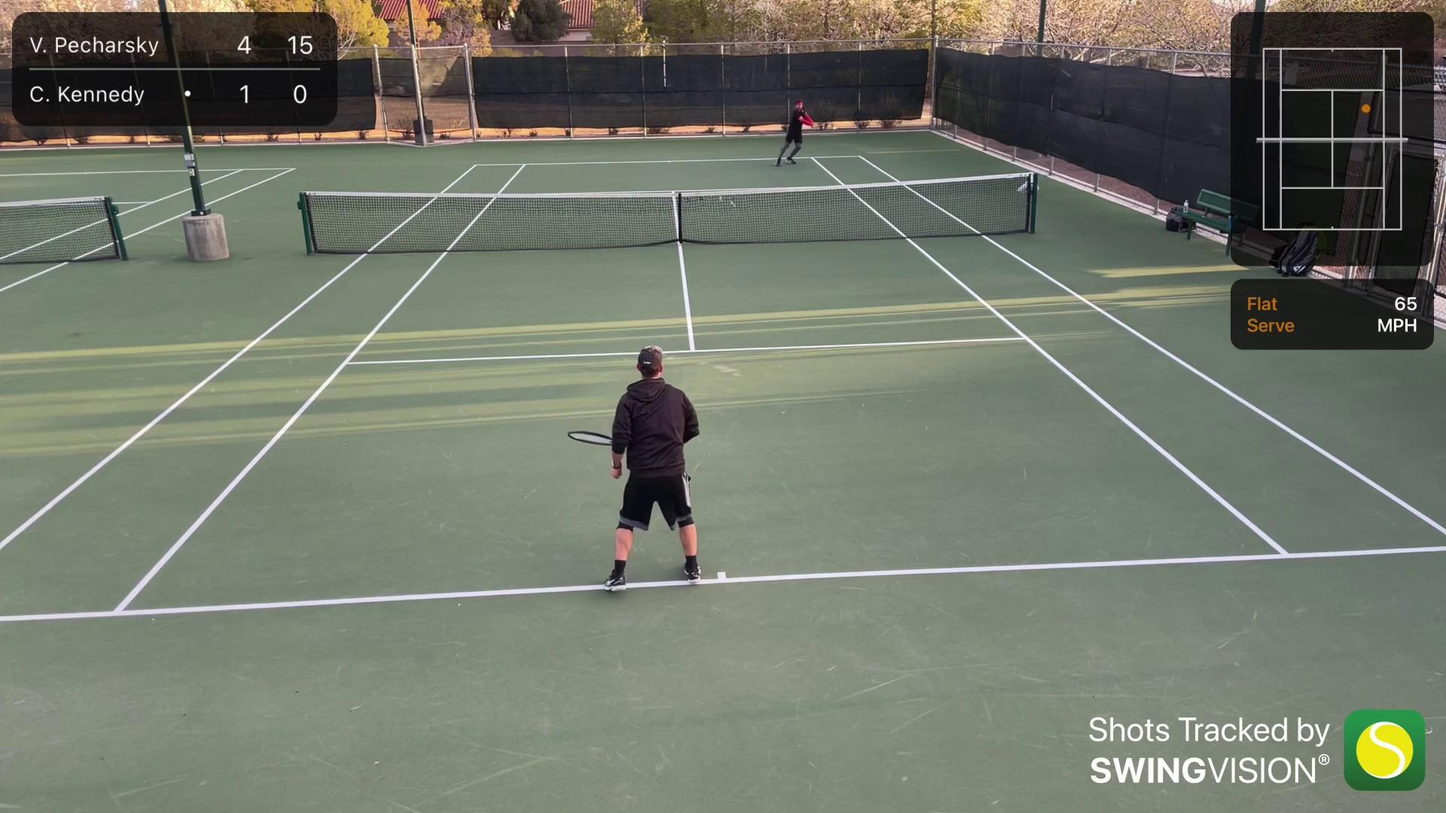ball: (833, 125, 837, 131)
